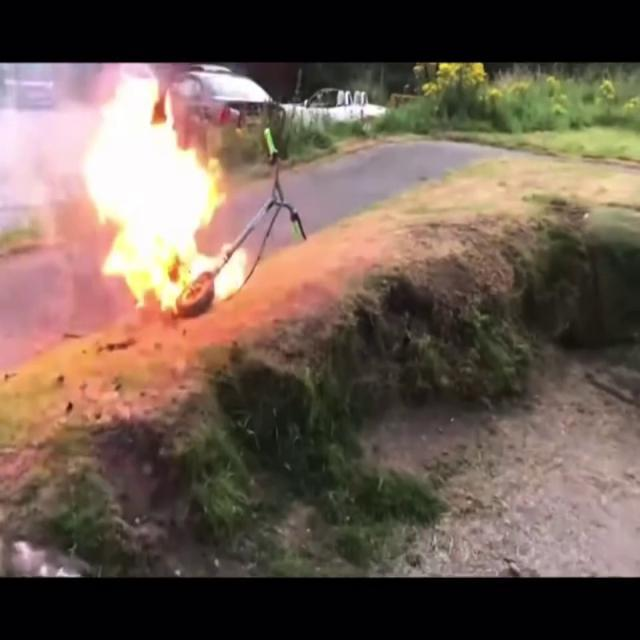Fire: (66, 66, 243, 306)
